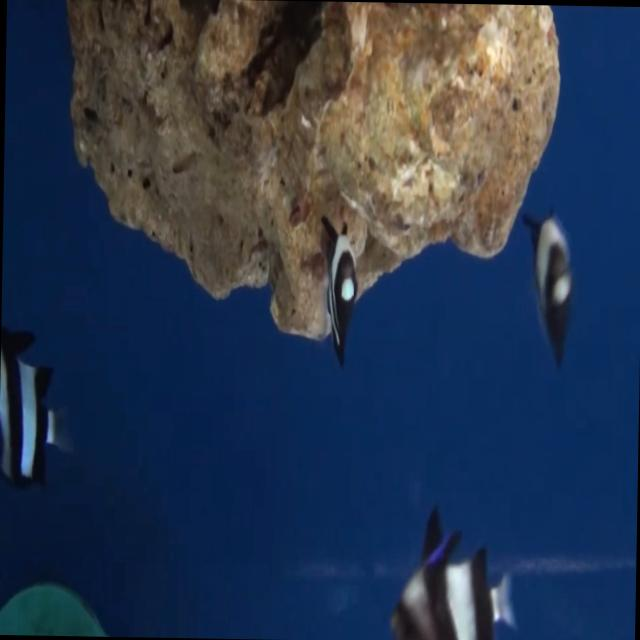ThreeStripedDamselfish: (389, 509, 512, 640), (531, 207, 572, 367)
